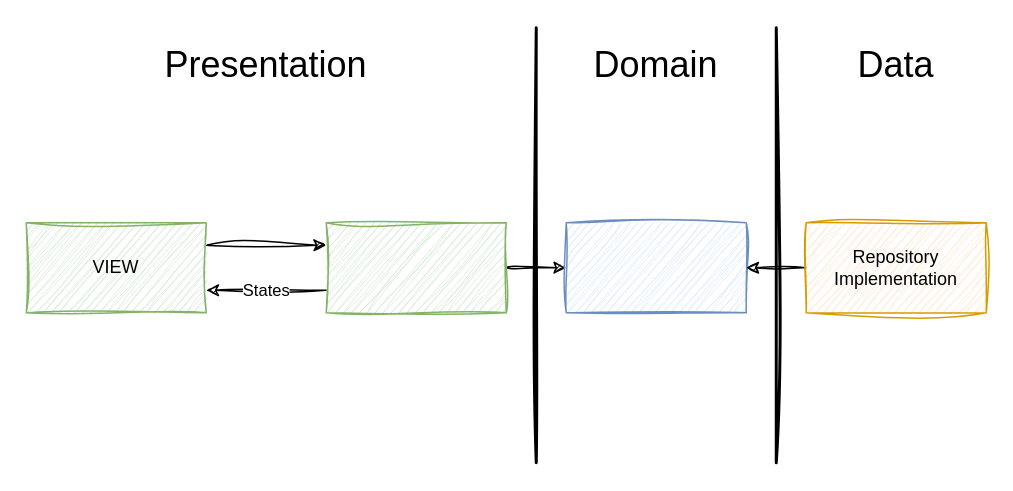
Some shapes in this 1013 by 491 pixel diagram are drawn without their labels. Here are the shapes that lost their labels. From the top down, the box of each, then its label:
(325, 221, 506, 313): ViewModel
(565, 221, 746, 313): Contract Repository
